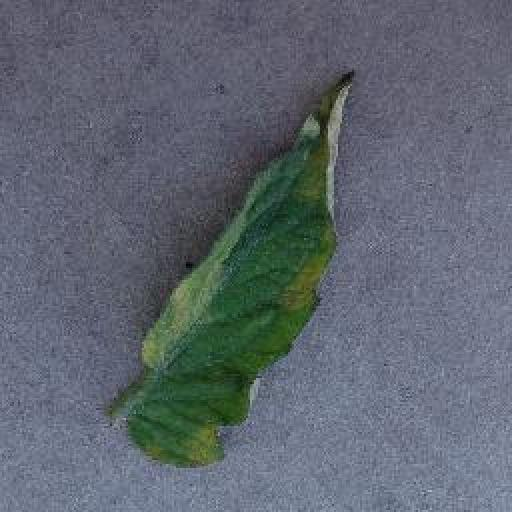disease_tomato: (132, 65, 354, 472)
